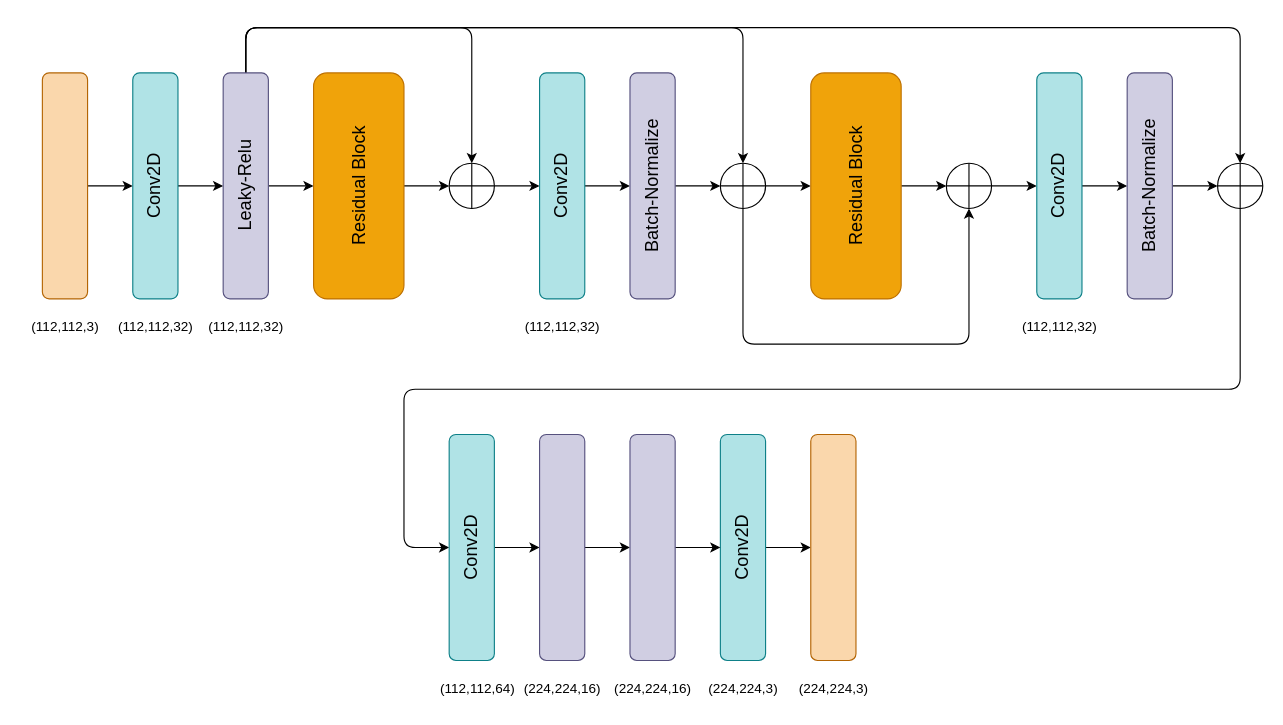
This 1283x725 diagram has some shape labels left out. Each missing label, with the centre of its shape:
Depth-To-Space: pixel 561 546
Input Layer: pixel 64 185
LeakyRelu: pixel 652 546
Output: pixel 833 546
